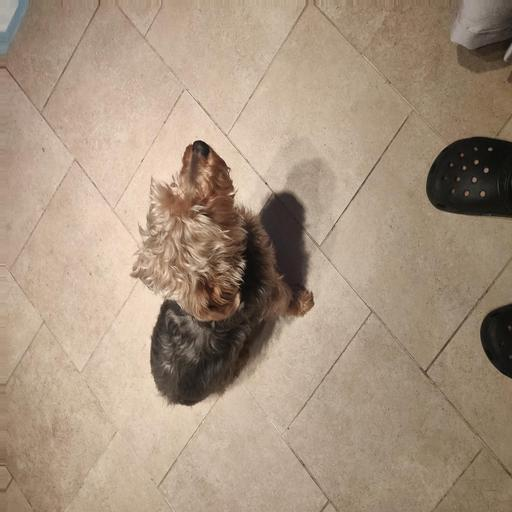dog: (118, 142, 322, 346)
